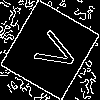V: (25, 24, 82, 76)
